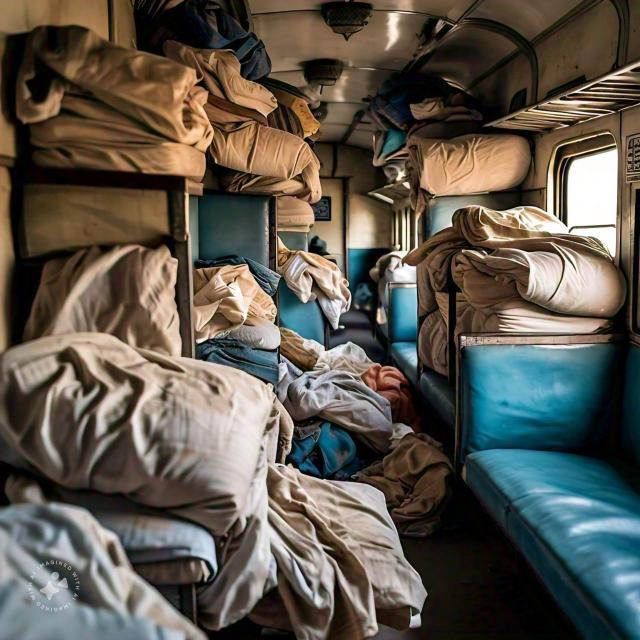DirtyTorn: (3, 291, 401, 640), (22, 9, 344, 286), (400, 135, 621, 350)
